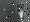person: (18, 5, 25, 20)
